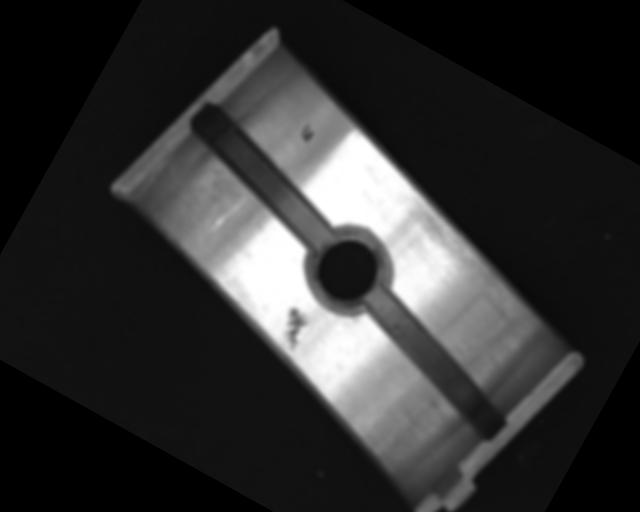blot: (297, 120, 318, 144)
bruise: (272, 305, 315, 354)
gap: (336, 284, 532, 442), (168, 101, 357, 252)
hole: (295, 214, 402, 324)
nick: (208, 186, 249, 239)
scratch: (380, 188, 557, 332)
